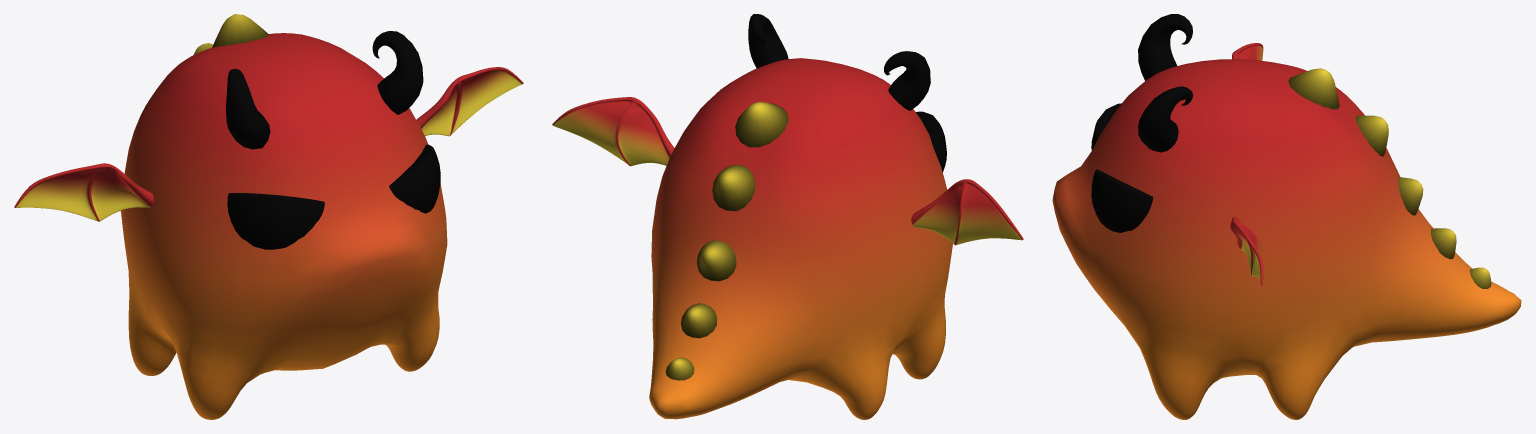
The model's file is char_dragon (1).fbx.
3 views of the same model, side by side, from view 1: azimuth 30°, elevation 25°; view 2: azimuth 150°, elevation 25°; view 3: azimuth 270°, elevation 25° (orthographic). The views are drawn at different scales.
Parts seen in each view (by area): view 1: char_dragon; view 2: char_dragon; view 3: char_dragon.
Boxes of the visible parts, x1,y1,x2,y2 form: char_dragon: [14, 14, 523, 419]; char_dragon: [552, 14, 1023, 419]; char_dragon: [1052, 14, 1521, 419].
Bounding box in the file's own units: 5.1 × 3.3 × 4.36.
Materials: 4 (3 with a texture image).
